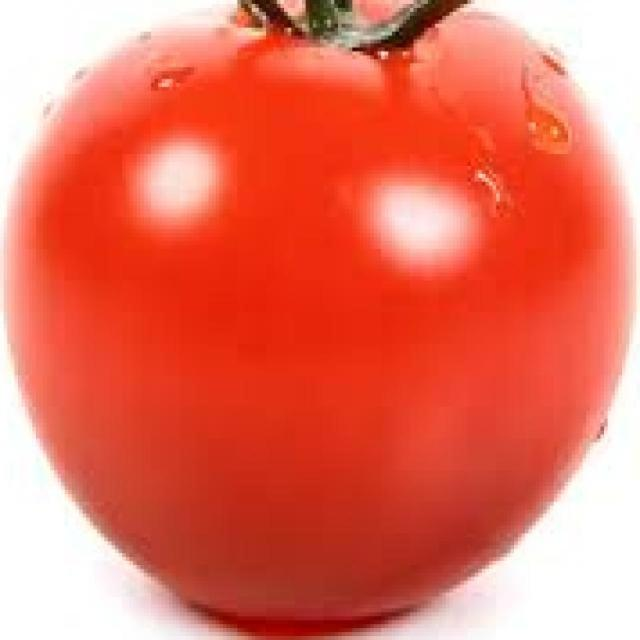Healthy Fruit: (8, 13, 426, 427)
